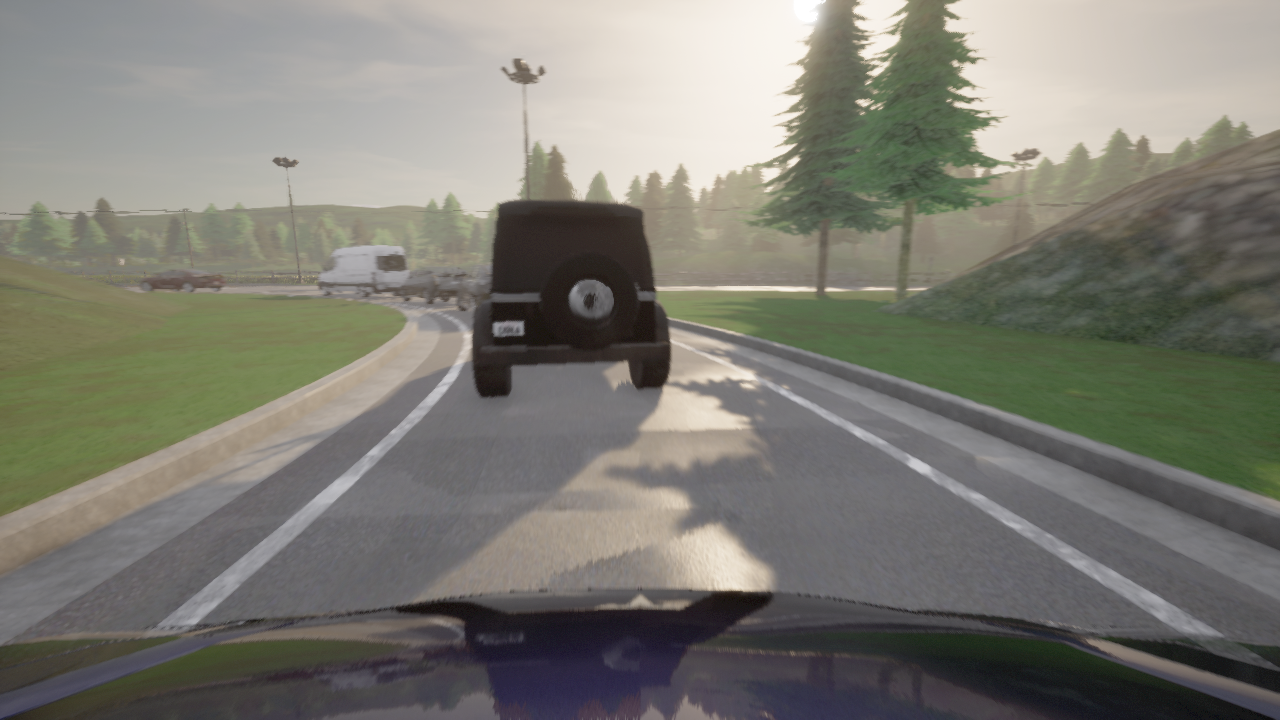cyclist: (0, 588, 1279, 719), (472, 199, 670, 396), (318, 246, 408, 297), (400, 265, 467, 304), (454, 262, 491, 317), (140, 268, 226, 291)
